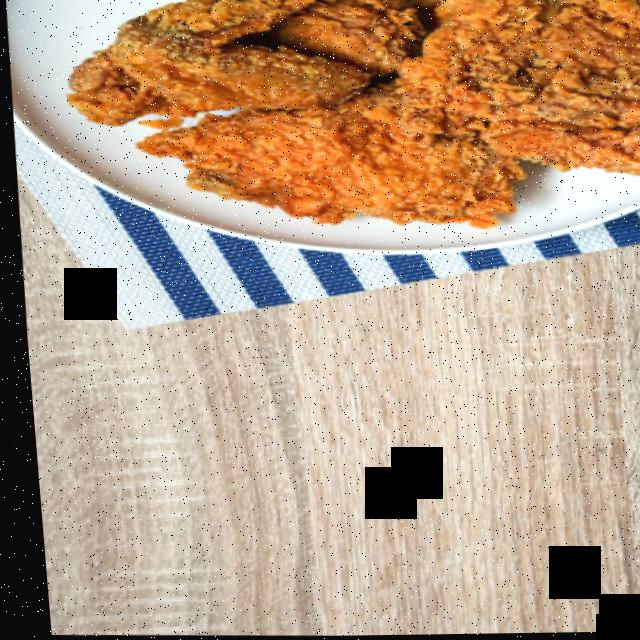Frango: (44, 0, 640, 234)
